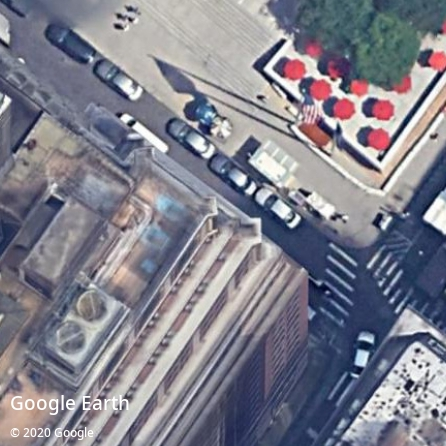Vent: (77, 290, 108, 322), (58, 323, 86, 354)
